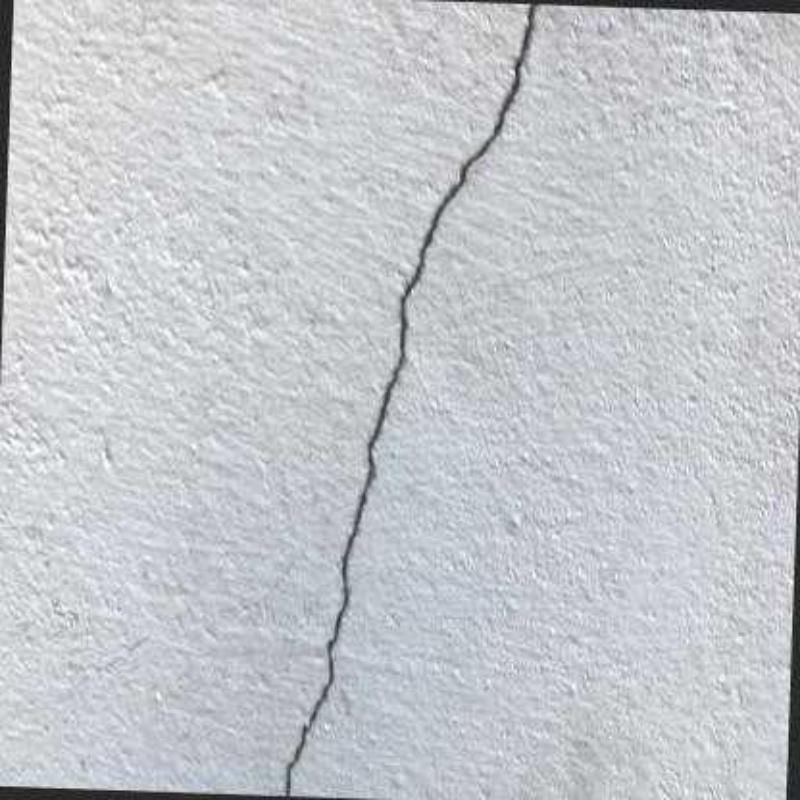crack: (285, 4, 539, 796)
